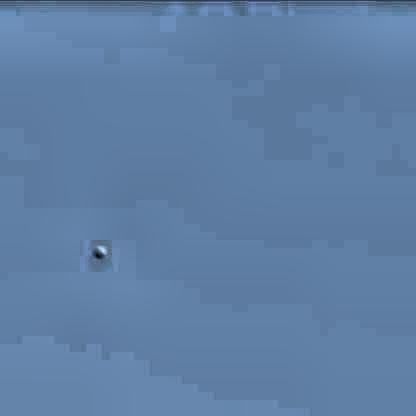golfball: (90, 242, 108, 258)
